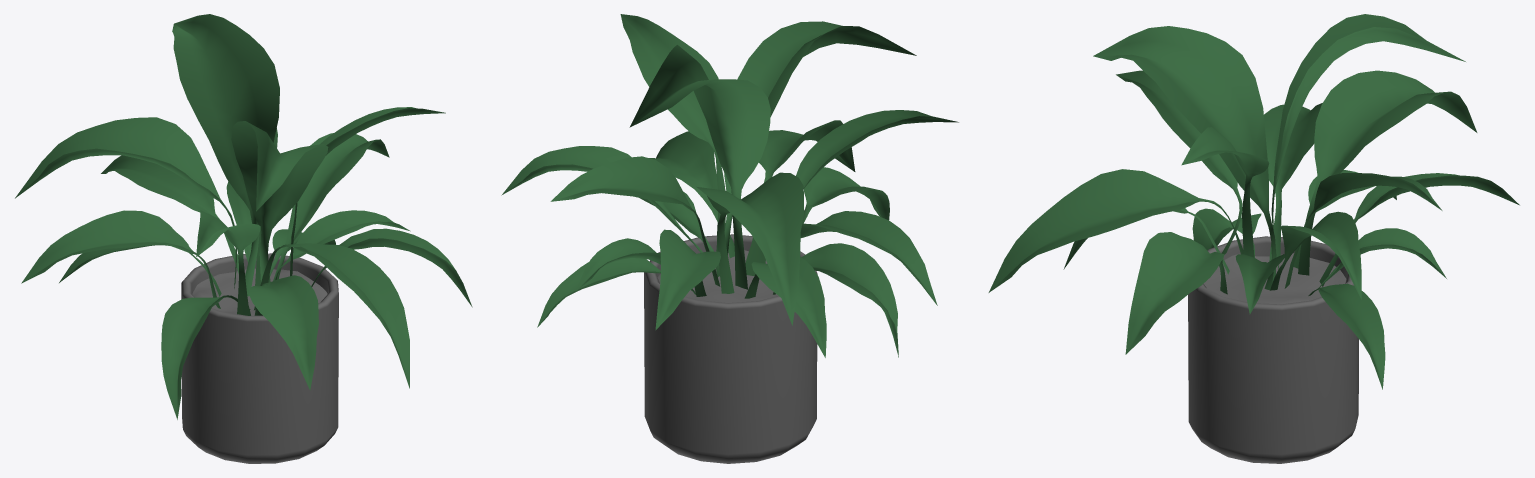
File: Plant1.fbx
3 views of the same model, side by side, from view 1: azimuth 30°, elevation 25°; view 2: azimuth 150°, elevation 25°; view 3: azimuth 270°, elevation 25° (orthographic). The views are drawn at different scales.
Parts seen in each view (by area): view 1: Leaf; view 2: Leaf; view 3: Leaf.
Part boxes in pixels (bbox=[...]): Leaf: bbox=[15, 14, 472, 463]; Leaf: bbox=[501, 14, 958, 463]; Leaf: bbox=[988, 14, 1519, 463].
Size of the model in its own units: 150 by 142 by 166.
